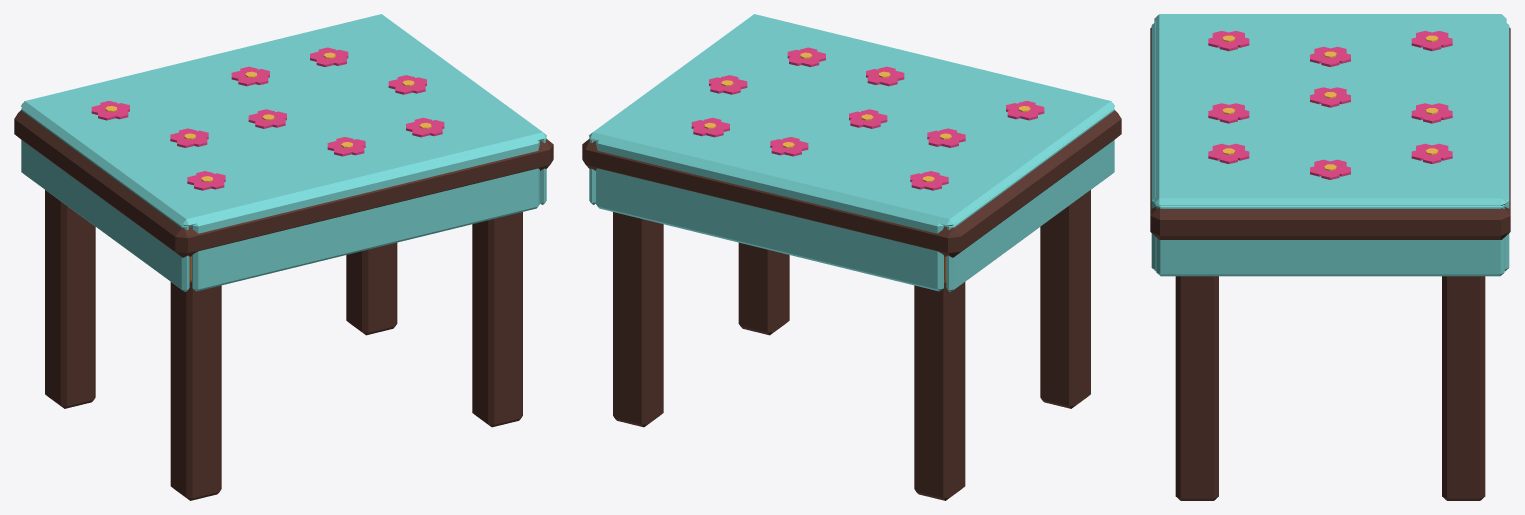
Rendered from table_floral.glb.
3 renders of one model, left to right at view 1: azimuth 30°, elevation 25°; view 2: azimuth 150°, elevation 25°; view 3: azimuth 270°, elevation 25°, orthographic. The views are drawn at different scales.
Parts seen in each view (by area): view 1: Queda frontal, Pé.004, Estampa pétala, Estampa miolo; view 2: Queda frontal, Pé.004, Estampa pétala, Estampa miolo; view 3: Queda frontal, Pé.004, Estampa pétala, Estampa miolo.
Boxes of the visible parts, x1,y1,x2,y2 form: Queda frontal: (21,14,546,291); Pé.004: (14,110,553,500); Estampa pétala: (91,47,444,190); Estampa miolo: (105,52,431,182); Queda frontal: (589,14,1114,291); Pé.004: (582,110,1121,500); Estampa pétala: (691,47,1044,190); Estampa miolo: (704,52,1030,182); Queda frontal: (1151,14,1509,276); Pé.004: (1150,27,1510,500); Estampa pétala: (1208,31,1452,179); Estampa miolo: (1222,35,1438,170).
Bounding box in the file's own units: 1.13 × 0.8445 × 0.88.
